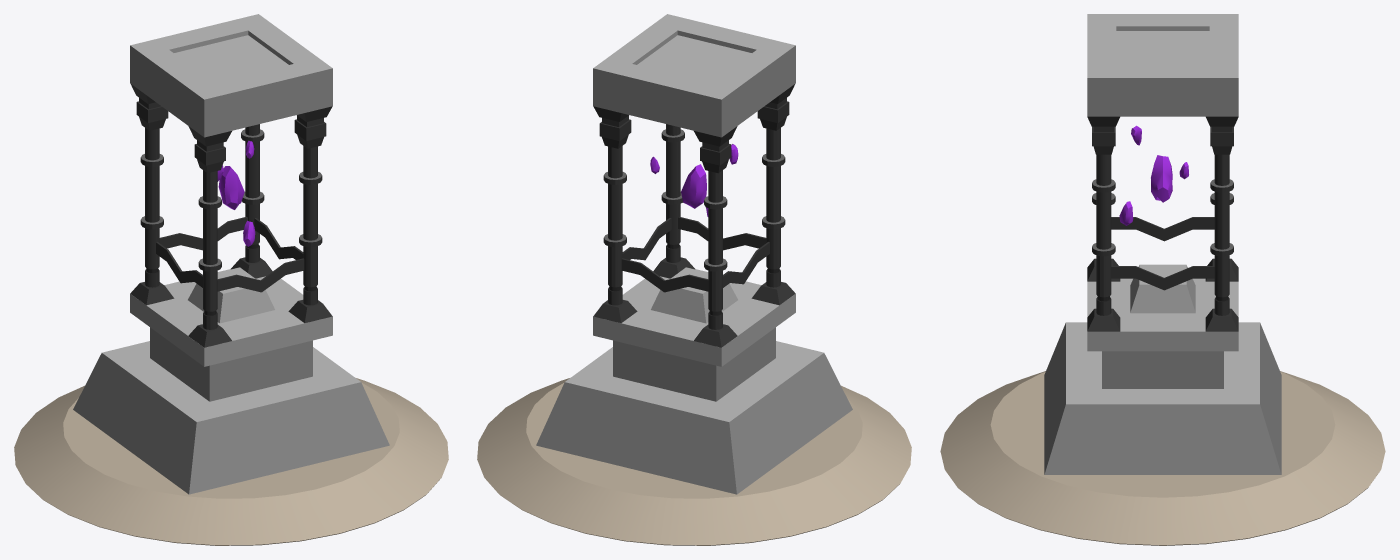
File: Poison Tower Lv2.fbx
The picture shows the model from 3 angles, left to right: view 1: azimuth 30°, elevation 25°; view 2: azimuth 150°, elevation 25°; view 3: azimuth 270°, elevation 25°; orthographic projection. The views are drawn at different scales.
Parts seen in each view (by area): view 1: Poison Tower Lv2, Crystal Main Lv1; view 2: Poison Tower Lv2, Crystal Main Lv1; view 3: Poison Tower Lv2, Crystal Main Lv1.
Part boxes in pixels (x1=…): Poison Tower Lv2: x1=14, y1=14, x2=448, y2=545; Crystal Main Lv1: x1=218, y1=166, x2=244, y2=209; Poison Tower Lv2: x1=477, y1=14, x2=911, y2=545; Crystal Main Lv1: x1=681, y1=164, x2=706, y2=208; Poison Tower Lv2: x1=940, y1=14, x2=1385, y2=545; Crystal Main Lv1: x1=1151, y1=155, x2=1172, y2=202.
Size of the model in its own units: 389 by 391 by 389.
